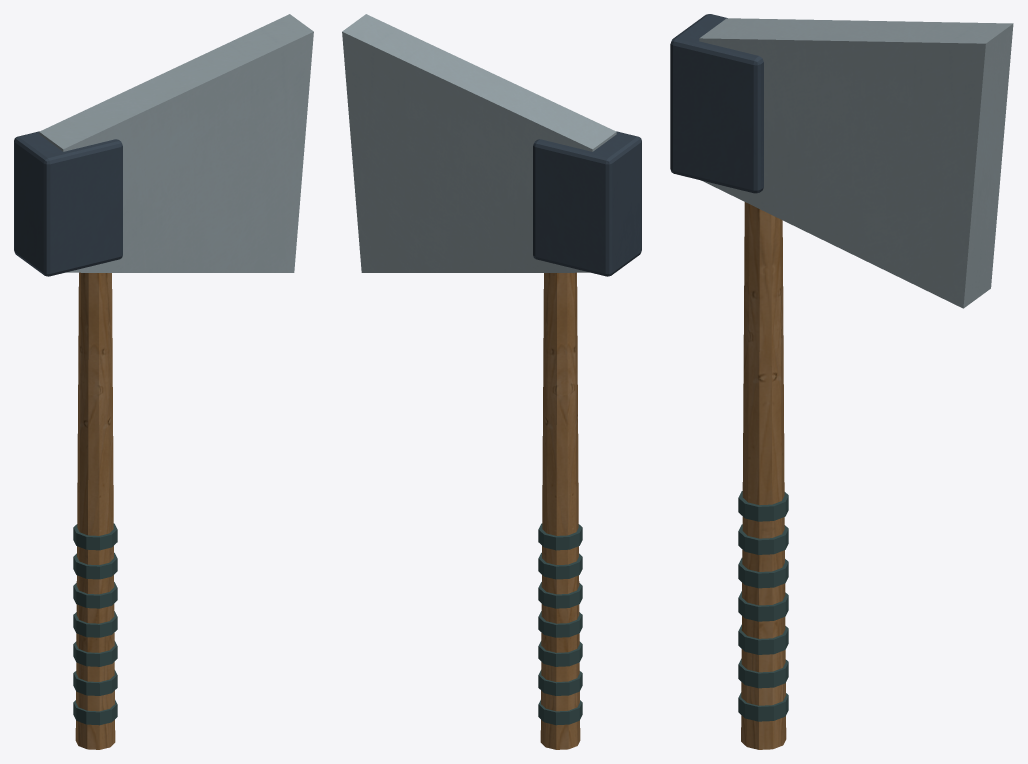
The model's file is axe.glb.
The picture shows the model from 3 angles, left to right: view 1: azimuth 30°, elevation 25°; view 2: azimuth 150°, elevation 25°; view 3: azimuth 330°, elevation 25°; orthographic projection. The views are drawn at different scales.
Parts seen in each view (by area): view 1: axe; view 2: axe; view 3: axe.
Boxes of the visible parts, left/top/right/bottom form: axe: left=14, top=14, right=313, bottom=749; axe: left=342, top=14, right=641, bottom=749; axe: left=670, top=14, right=1013, bottom=749.
Size of the model in its own units: 0.555 by 1.3 by 0.12.
Materials: 4 (3 with a texture image).
